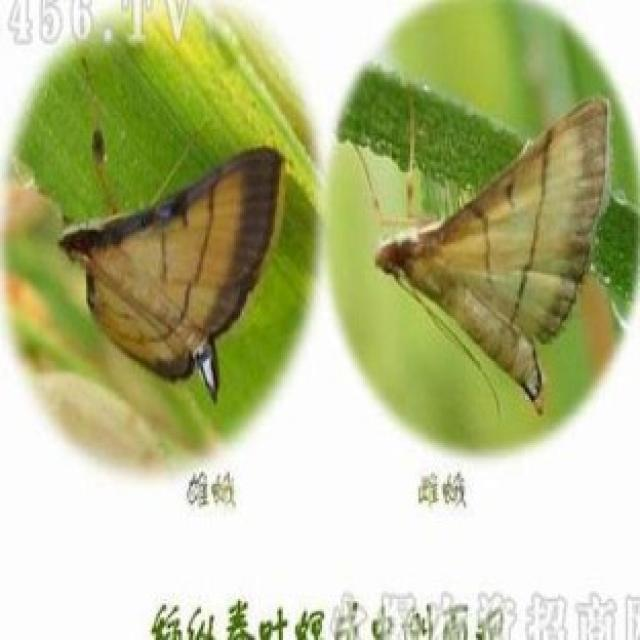rice leaf roller: (349, 98, 609, 412), (59, 123, 283, 400)
